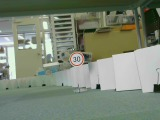speed_30: (68, 51, 86, 67)
